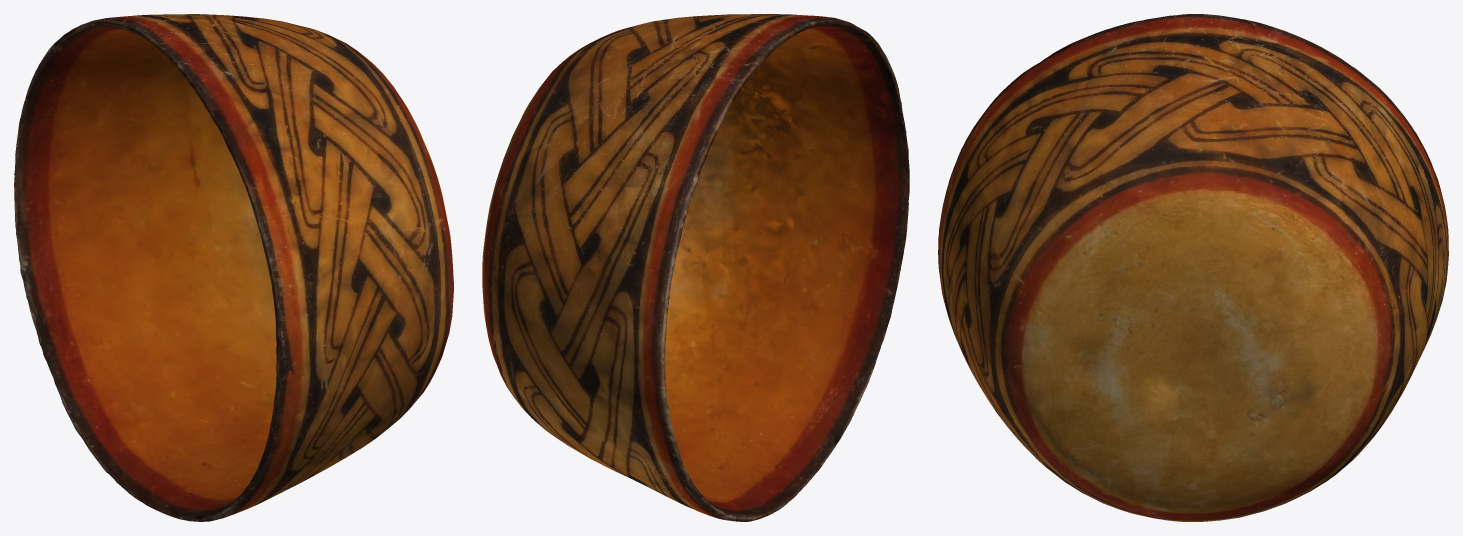
3 renders of one model, left to right at view 1: azimuth 30°, elevation 25°; view 2: azimuth 150°, elevation 25°; view 3: azimuth 270°, elevation 25°, orthographic.
Visible parts, largest first — view 1: Mesh_0.006; view 2: Mesh_0.006; view 3: Mesh_0.006.
Boxes of the visible parts, x1,y1,x2,y2 form: Mesh_0.006: (14, 14, 453, 521); Mesh_0.006: (482, 14, 909, 521); Mesh_0.006: (938, 14, 1448, 521).
Bounding box in the file's own units: 0.1031 × 0.1857 × 0.1857.
Materials: 1 (1 with a texture image).
